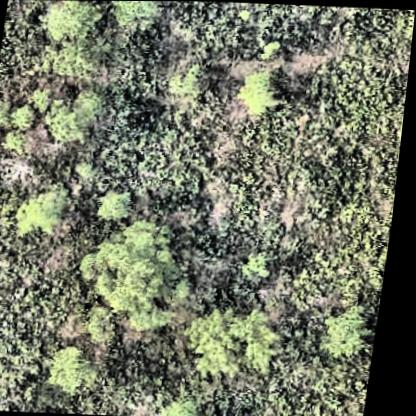tree-top: (77, 217, 203, 337), (184, 308, 292, 381), (15, 178, 82, 244), (45, 84, 110, 150), (325, 304, 381, 361), (38, 0, 101, 49), (53, 348, 112, 397), (239, 69, 288, 114), (106, 1, 158, 32), (98, 190, 140, 225), (10, 103, 44, 133)
